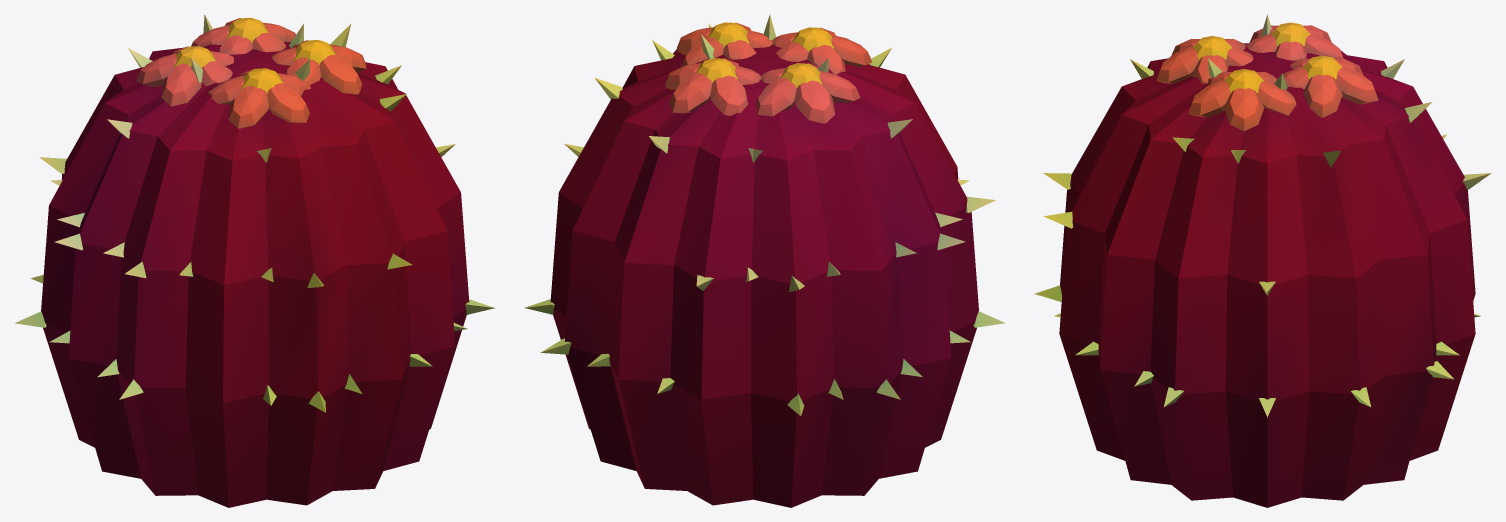
File: Cactus_Barrel_01.fbx
3 views of the same model, side by side, from view 1: azimuth 30°, elevation 25°; view 2: azimuth 150°, elevation 25°; view 3: azimuth 270°, elevation 25° (orthographic).
Visible parts, largest first — view 1: Cactus_Barrel_01; view 2: Cactus_Barrel_01; view 3: Cactus_Barrel_01.
Part boxes in pixels (x1=…): Cactus_Barrel_01: x1=15, y1=14, x2=494, y2=507; Cactus_Barrel_01: x1=524, y1=15, x2=1005, y2=507; Cactus_Barrel_01: x1=1034, y1=14, x2=1491, y2=507.
Bounding box in the file's own units: 0.792 × 0.7238 × 0.7721.
